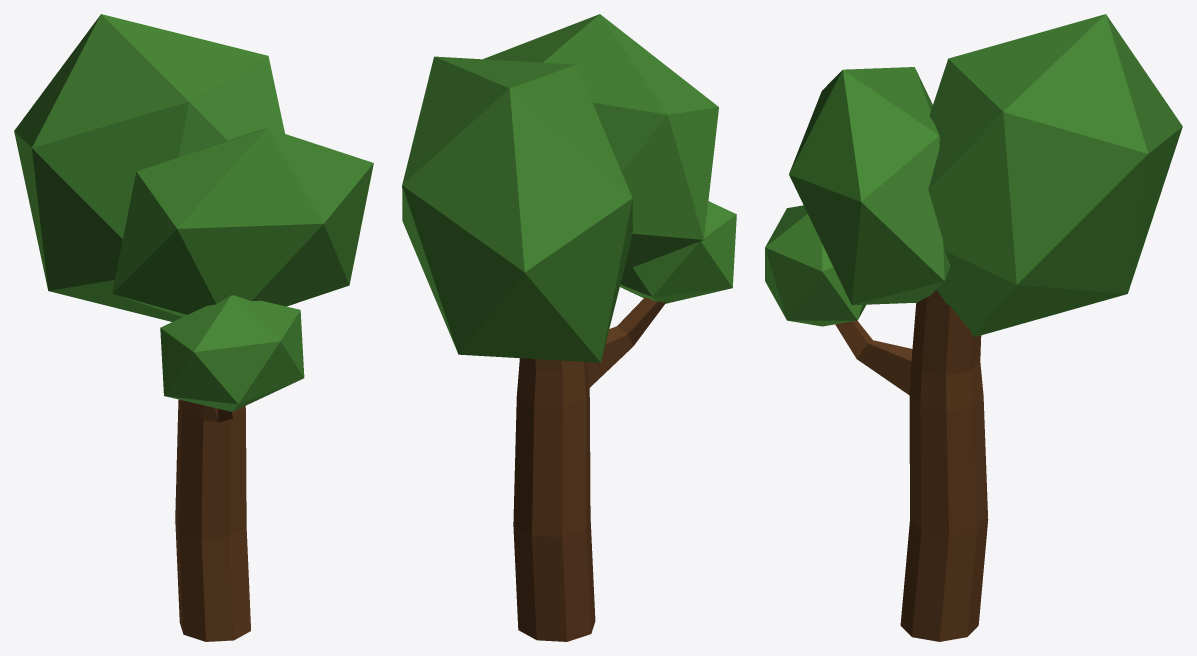
File: Tree1.fbx
The picture shows the model from 3 angles, left to right: view 1: azimuth 30°, elevation 25°; view 2: azimuth 150°, elevation 25°; view 3: azimuth 270°, elevation 25°; orthographic projection. The views are drawn at different scales.
Parts seen in each view (by area): view 1: Tree; view 2: Tree; view 3: Tree.
Part boxes in pixels (<box>): Tree: <box>14,14,373,641</box>; Tree: <box>402,14,736,641</box>; Tree: <box>765,14,1182,641</box>.
Size of the model in its own units: 518 by 1123 by 717.
